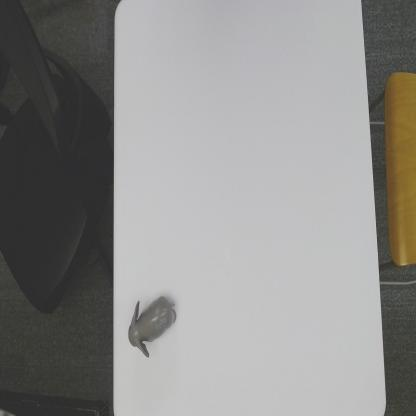Elephant: (127, 294, 178, 358)
